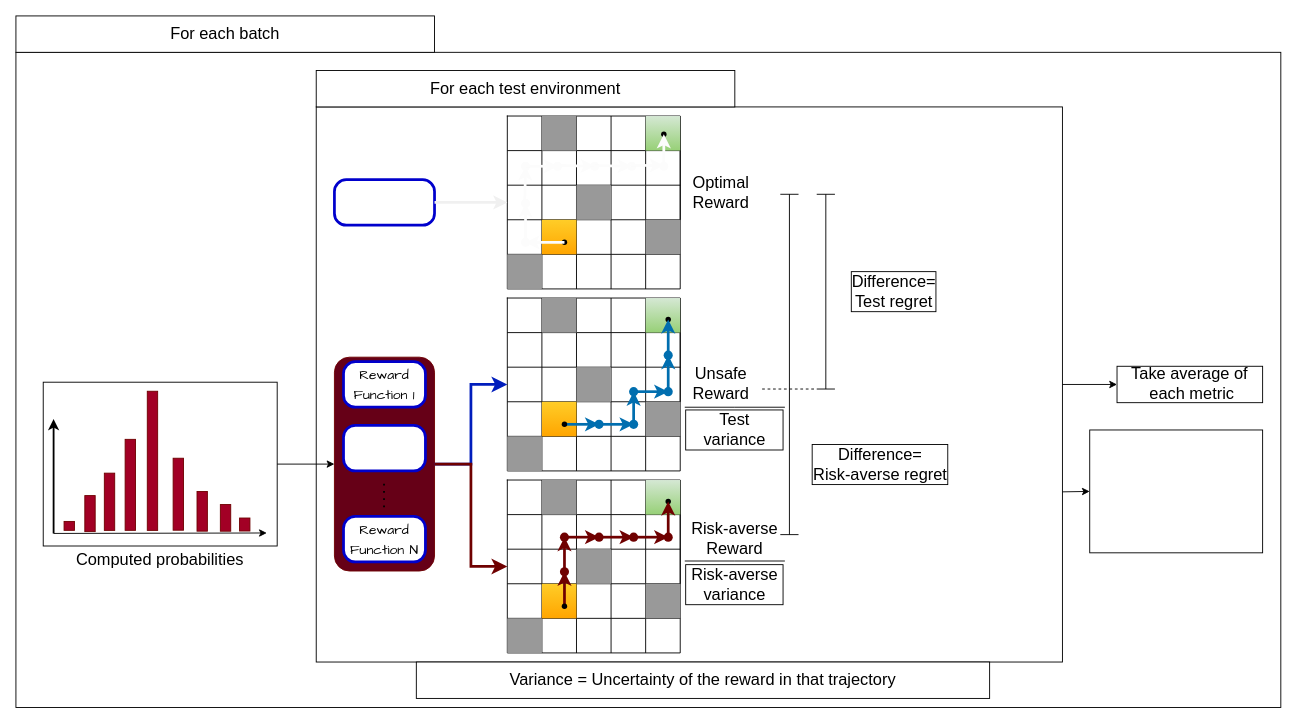
Image size: 1297x723. Some labels were removed from this diagram. The centre of each missing label's shape, as x and y in pixels:
"Plot each unsafe and risk-averse trajectory for each environment in the batch" belongs at (1176,491).
"Reward Function 2" belongs at (384,448).
"True Reward Function" belongs at (384,202).
